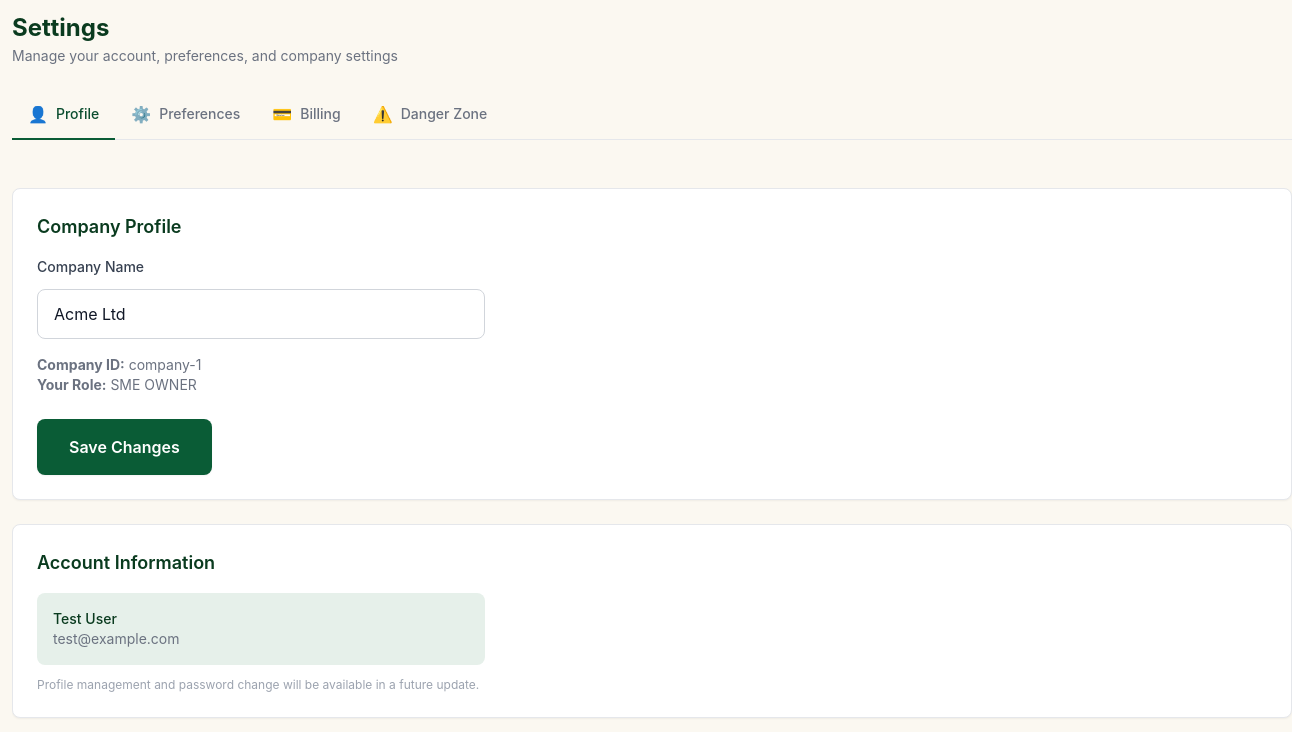
Settings Page › switches to Billing tab when clicked
What coordinates should you click on to do the following:
click the text "Billing"
I would click on:
 (320, 114)
Its box is [300,104,341,124].
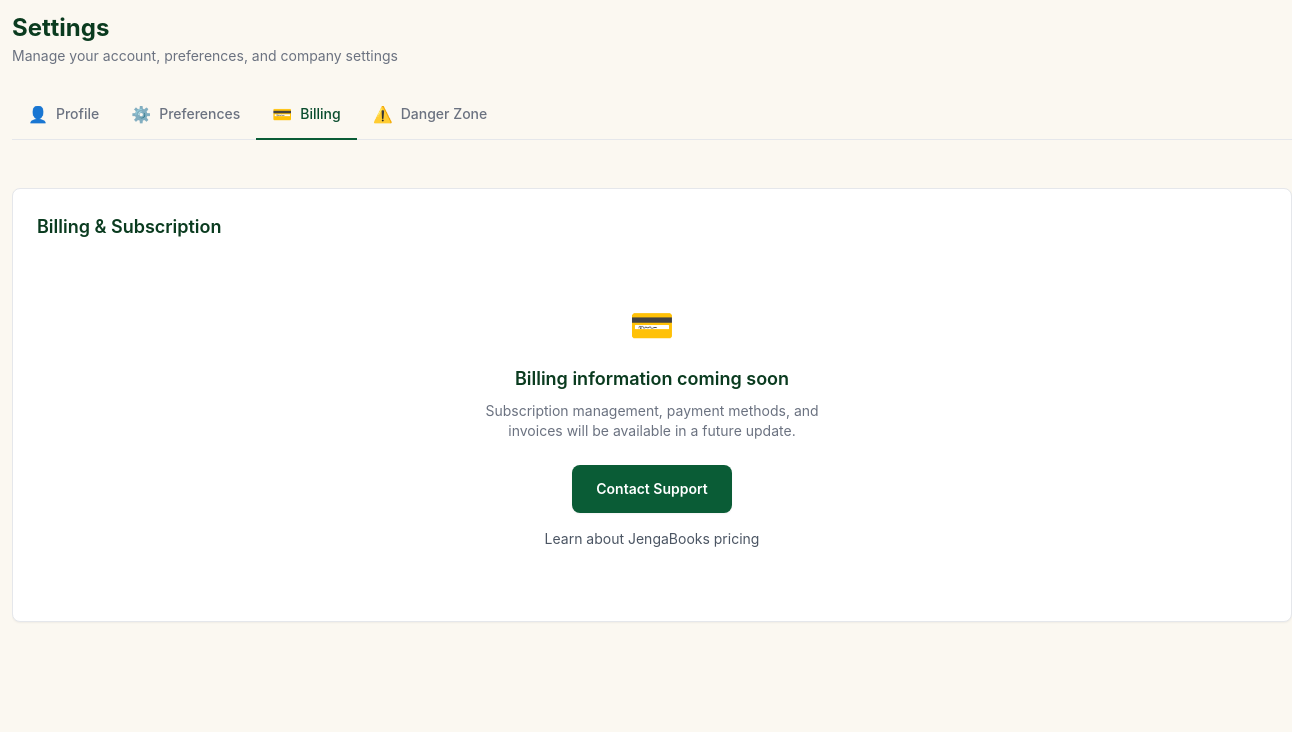
Result: the heading "Billing & Subscription" is shown at [37,213,222,241]
Result: the heading "Billing information coming soon" is shown at [515,365,789,393]
